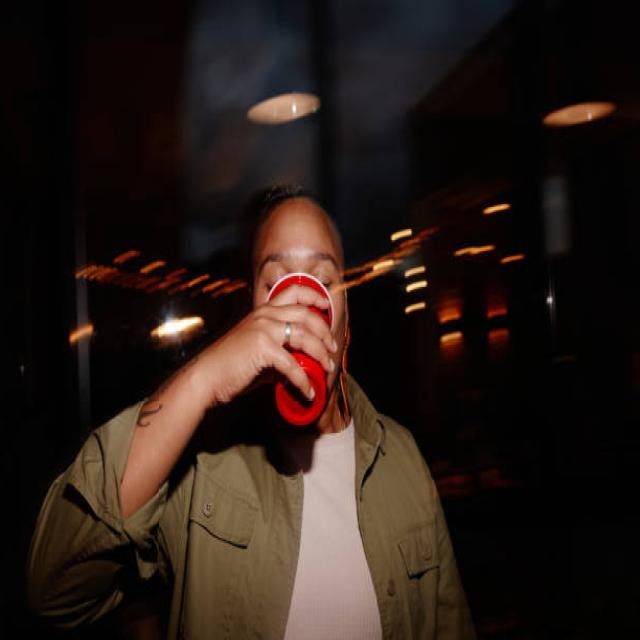Red_cup: (275, 350, 326, 425)
